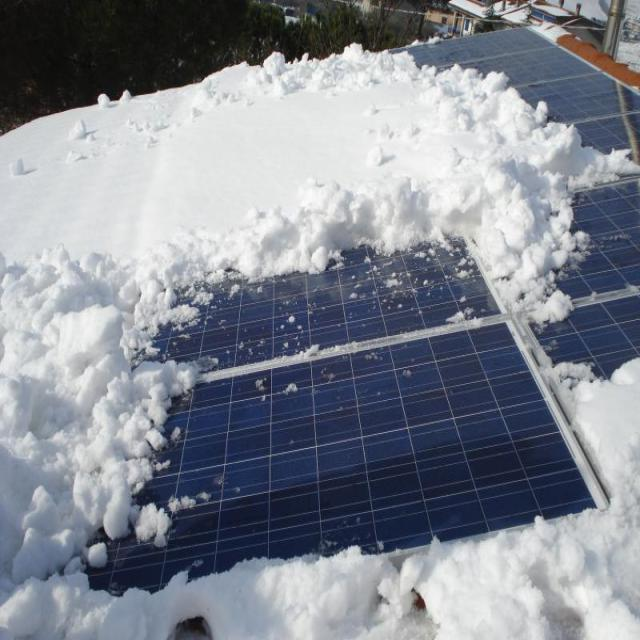Anomaly Solar Panel: (0, 21, 639, 639)
Snow: (0, 45, 639, 639)
